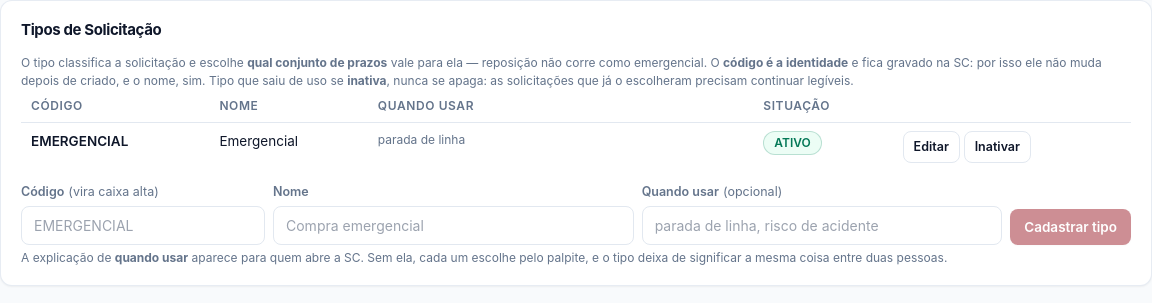
Test: tela dos tipos de solicitação › editar não deixa mexer no código — ele é a identidade gravada na SC
Click the button "Editar": (931, 147) [903,130,960,163]
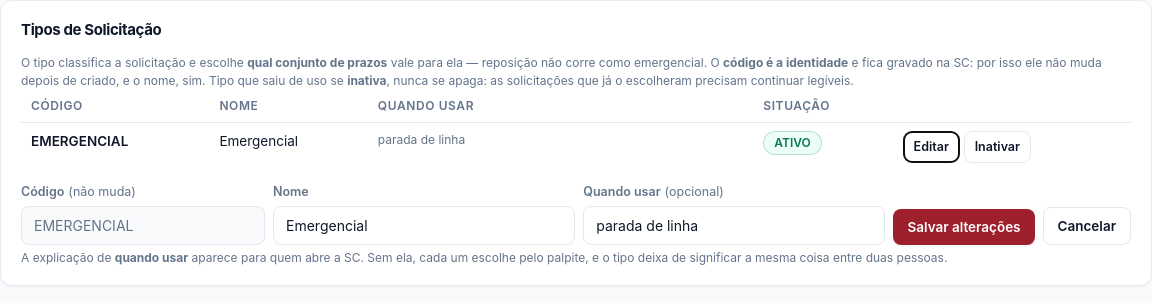
Expected: the field labelled "Código(não muda)" is disabled, [21,206,265,245]
Expected: the field labelled "Código(não muda)" holds "EMERGENCIAL", [21,206,265,245]
